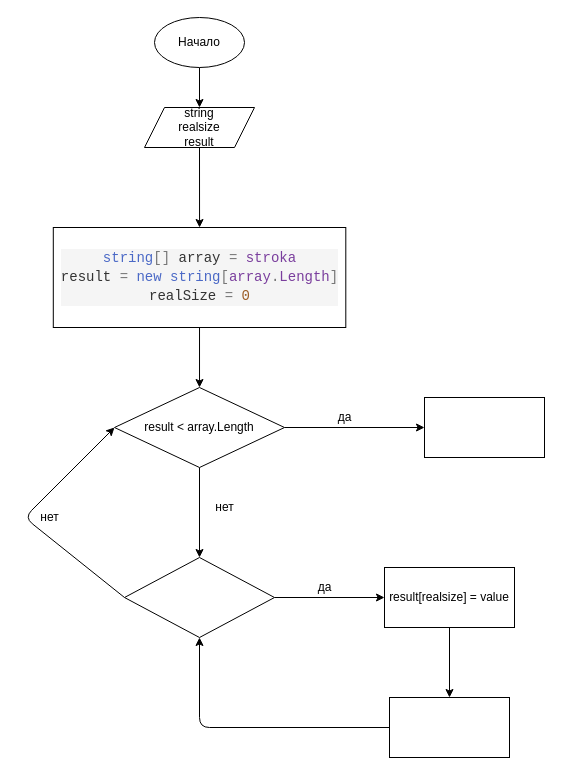
This 562x775 diagram has some shape labels left out. The box of each missing label's shape, as (x1, y1, x2, y2) in pixels:
realsize++: (388, 696, 510, 758)
result: (424, 396, 544, 458)
value.Length<= 3: (124, 556, 274, 638)
